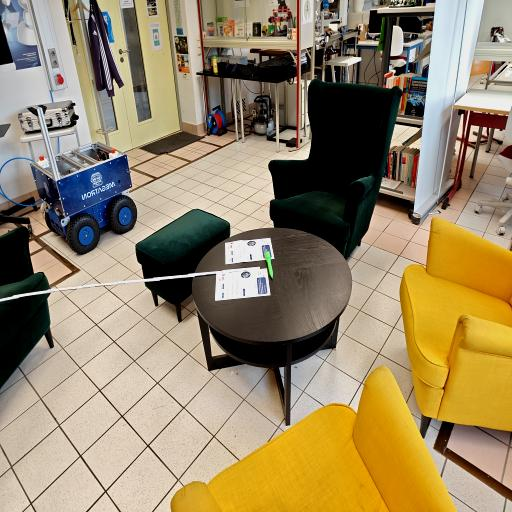Probe-Detection: (265, 251, 273, 278)
